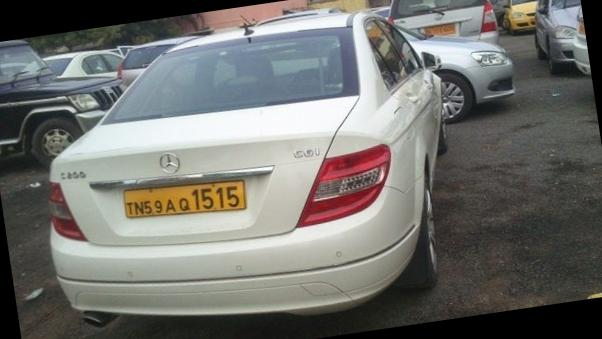plate: (100, 160, 275, 245)
